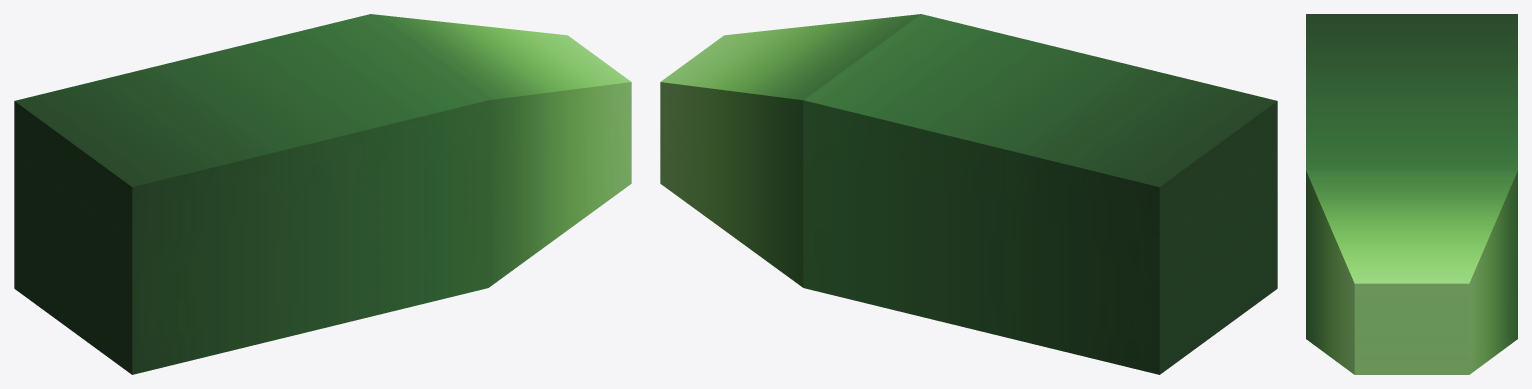
File: ammo_type3_placeholder_v001.fbx
3 renders of one model, left to right at view 1: azimuth 30°, elevation 25°; view 2: azimuth 150°, elevation 25°; view 3: azimuth 270°, elevation 25°, orthographic. The views are drawn at different scales.
Visible parts, largest first — view 1: ammo.003; view 2: ammo.003; view 3: ammo.003.
Part boxes in pixels (x1=…): ammo.003: x1=14, y1=14, x2=631, y2=374; ammo.003: x1=660, y1=14, x2=1277, y2=374; ammo.003: x1=1306, y1=14, x2=1517, y2=374.
Size of the model in its own units: 23.1 by 59.57 by 20.3.
1 material, 1 textured.
